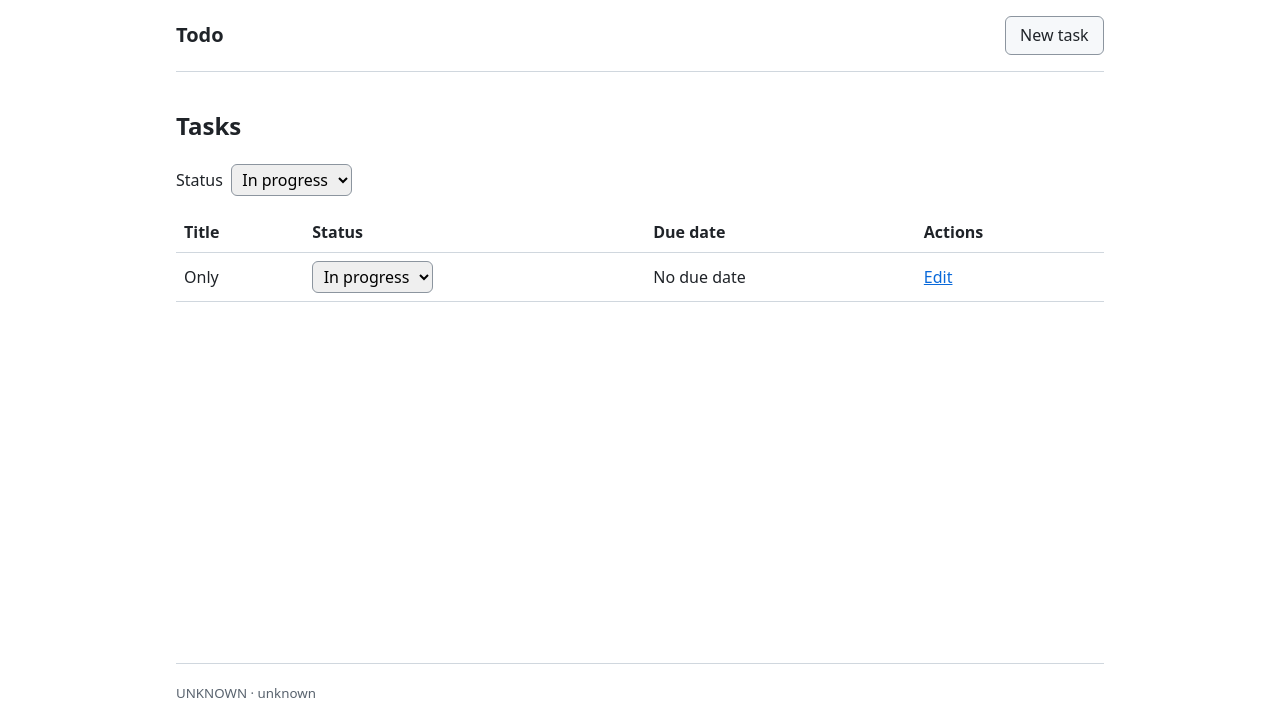
Scenario: SCRUM-6 task list status › SCRUM-6-AC-10, SCRUM-6-AC-14: when the change empties the whole filtered set the filter-aware empty state is shown
This screenshot has width=1280, height=720.
Select "Done" in the dropdown named "Status for Only": (373, 277) x1=312 y1=261 x2=433 y2=293
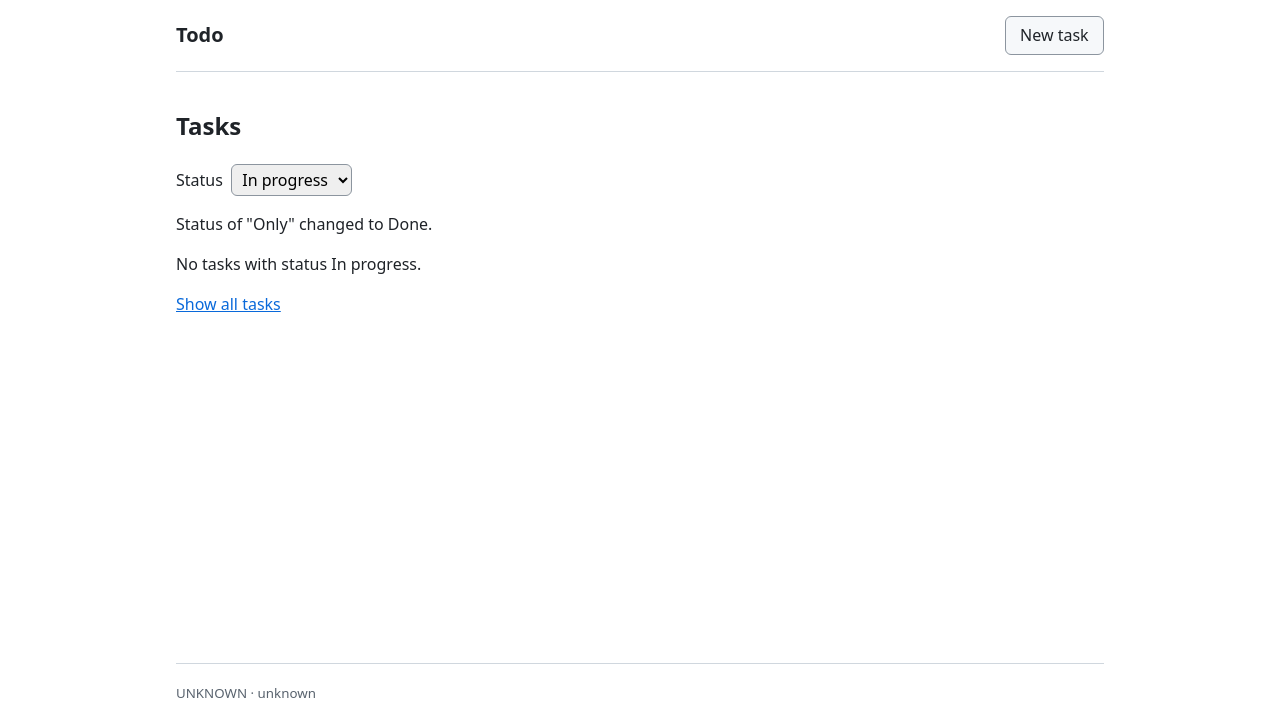
Expected: the text "No tasks with status In progress." is shown, x1=176 y1=253 x2=421 y2=275
